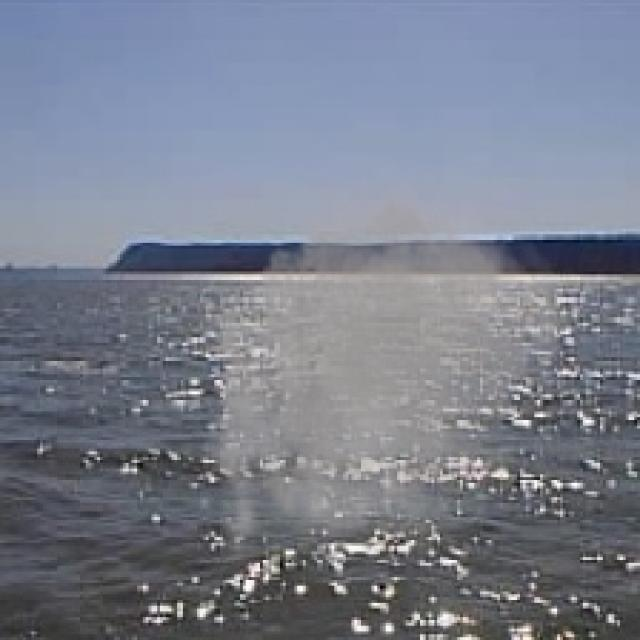smoke: (189, 172, 577, 577)
